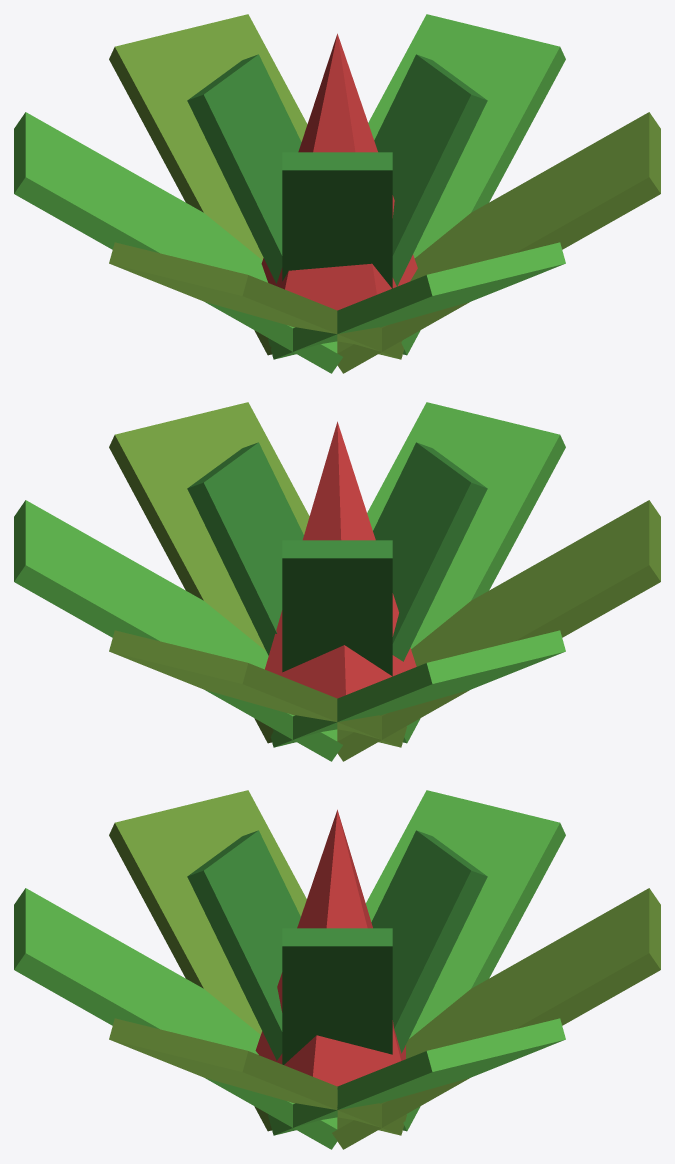
File: bromelia.glb
The picture shows the model from 3 angles, top to bottom: view 1: azimuth 30°, elevation 25°; view 2: azimuth 150°, elevation 25°; view 3: azimuth 270°, elevation 25°; orthographic projection.
Parts seen in each view (by area): view 1: corpo; view 2: corpo; view 3: corpo.
Part boxes in pixels (x1,y1,x2,y2): corpo: (14, 14, 660, 373); corpo: (14, 402, 660, 761); corpo: (14, 790, 660, 1149).
Size of the model in its own units: 0.2893 by 0.1542 by 0.2936.
